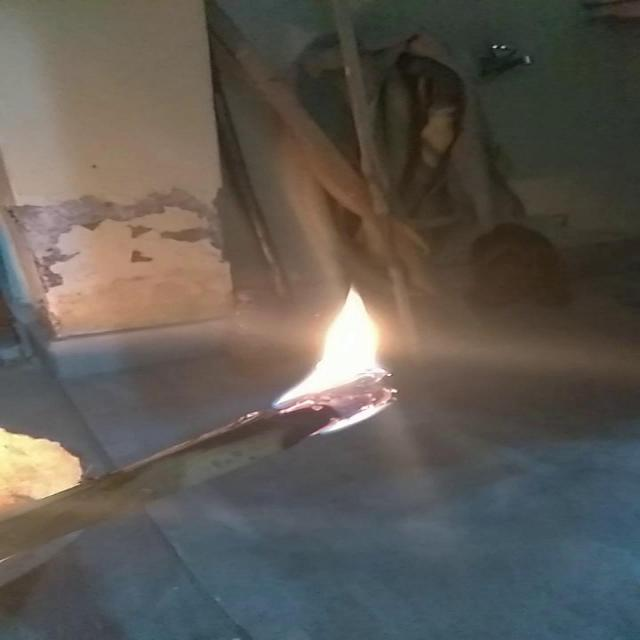fire: (242, 283, 418, 449)
